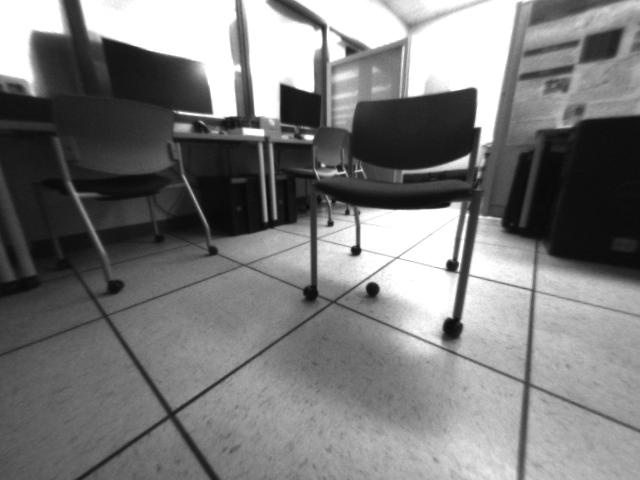dogtoy: (360, 277, 387, 300)
